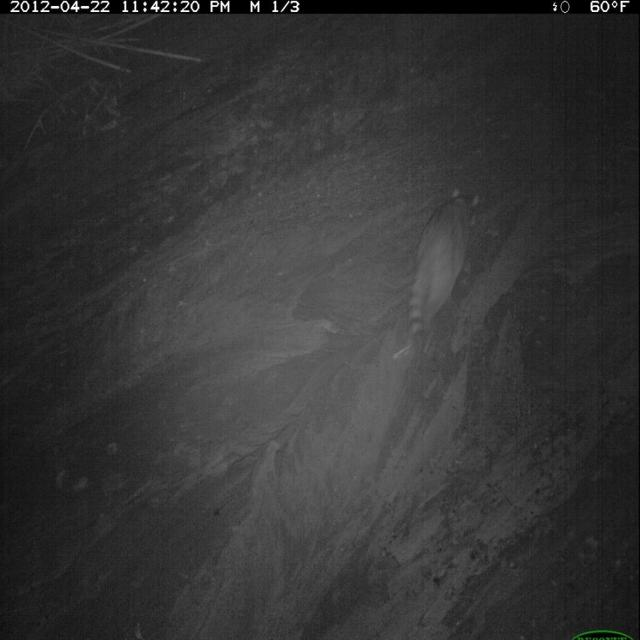raccoon: (408, 185, 482, 366)
